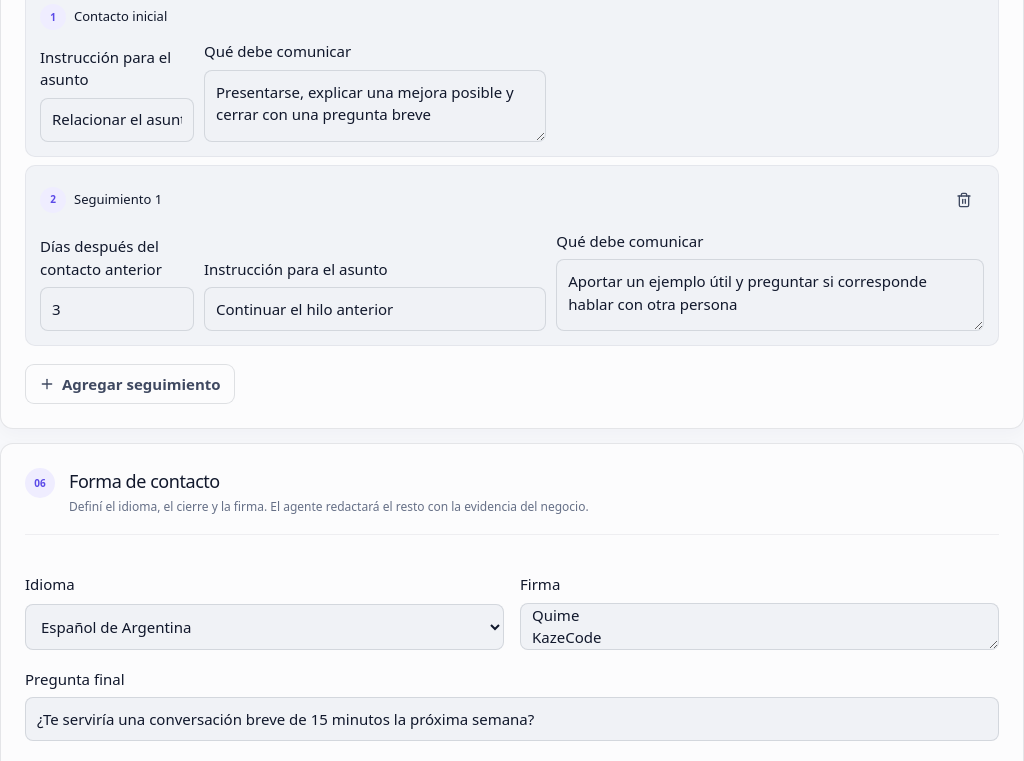
CampaignForm › lets the owner configure more follow-up steps
The width and height of the screenshot is (1024, 761).
(page scrolled)
Expected: the heading "Contacto inicial" is shown, 74,7 -> 167,27
Expected: the heading "Seguimiento 1" is shown, 74,190 -> 162,209
Click the button "Agregar seguimiento".
click(130, 384)  # box 25,364 -> 235,404
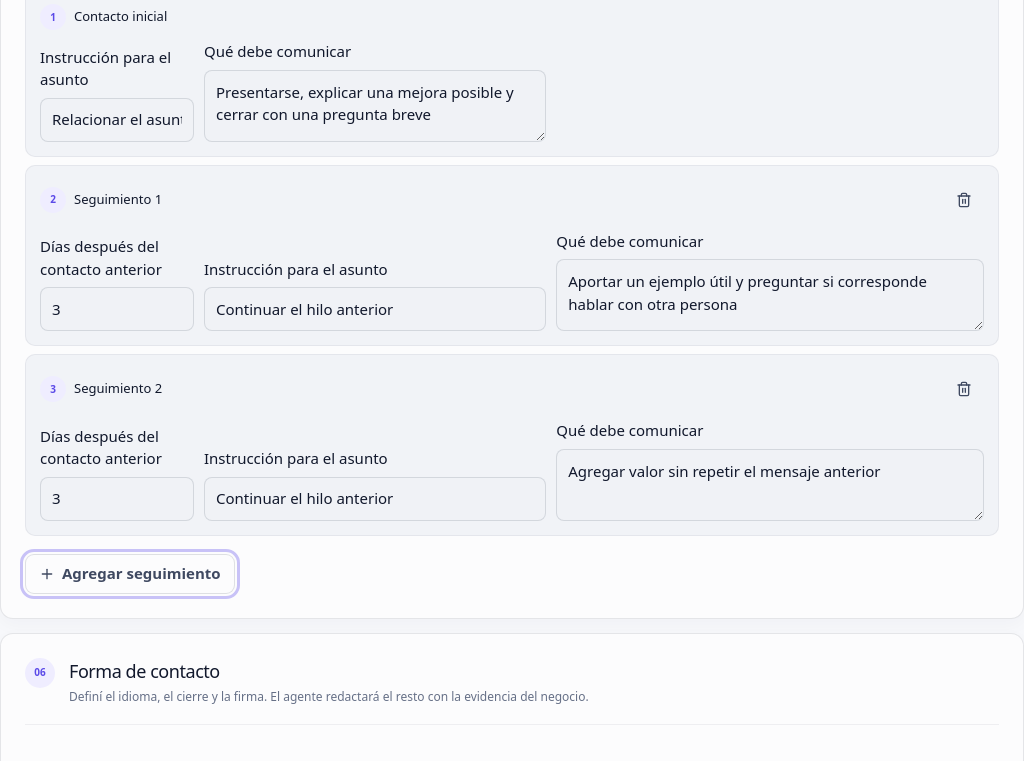
Expected: the heading "Seguimiento 2" is shown, 74,379 -> 162,399
Expected: the number of number fields showing "3" is 2, 40,287 -> 194,331; 40,476 -> 194,520
